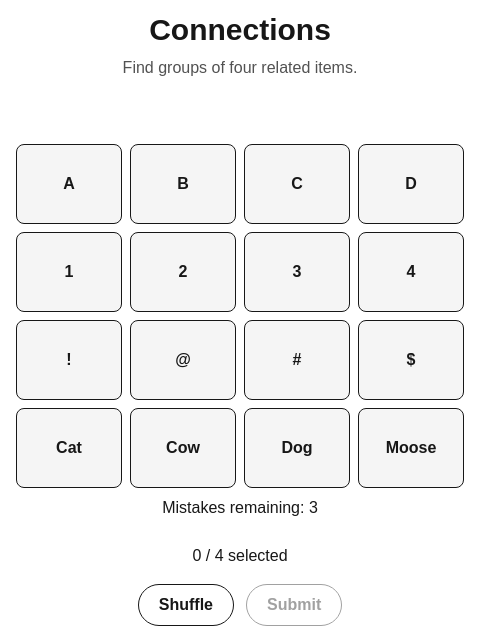
Test case: ConnectionsGameBoard › synchronizes duplicate responses without mutation or a reaction
Expected: the text "Mistakes remaining: 3" is shown, [162,499,318,516]
Step 1. Click the button "A" → click(69, 184), box [16,144,122,224]
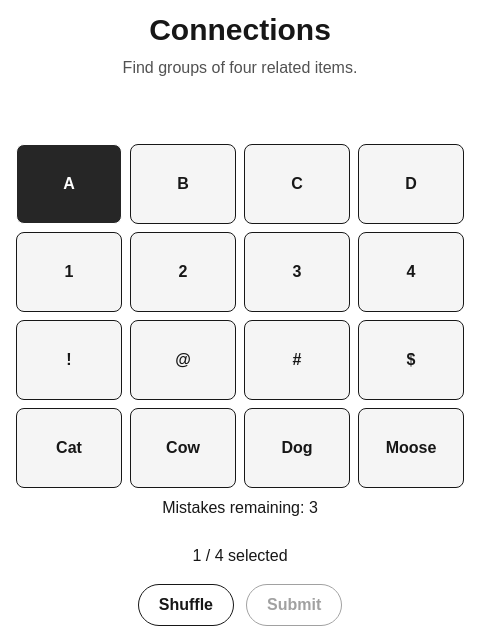
Step 2. Click the button "B" → click(183, 184), box [130,144,236,224]
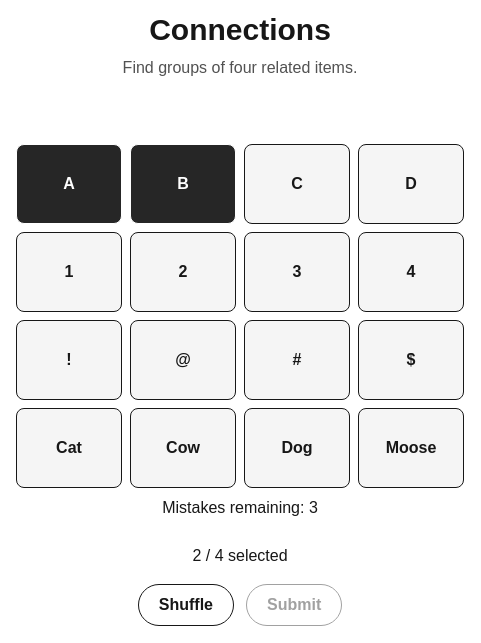
Step 3. Click the button "1" → click(69, 272), box [16,232,122,312]
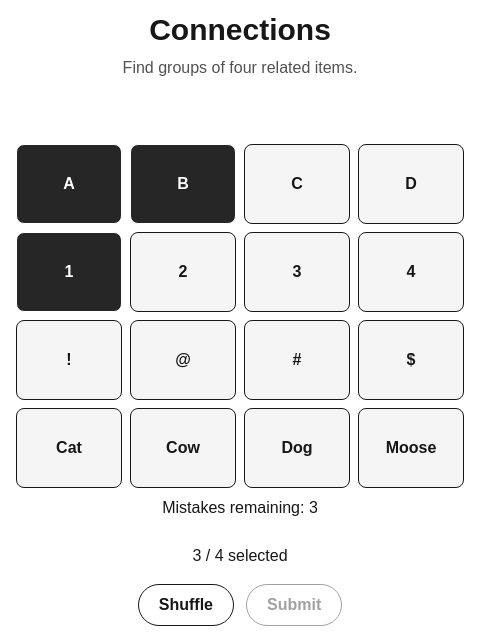
Step 4. Click the button "2" → click(183, 272), box [130,232,236,312]
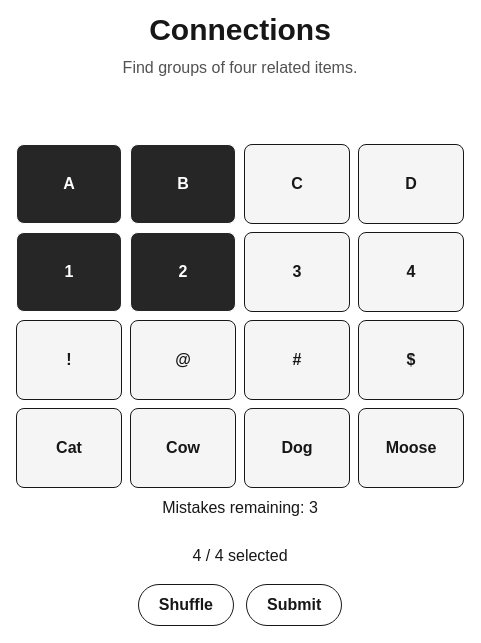
Step 5. Click the button "Submit" → click(294, 605), box [246,584,342,626]
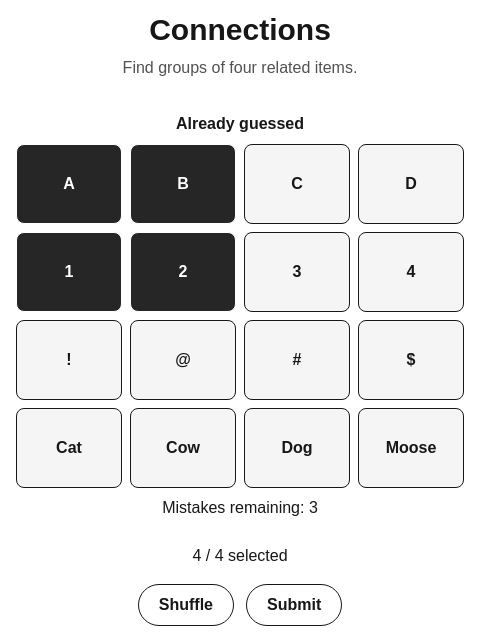
Expected: the text "Mistakes remaining: 3" is shown, [162,499,318,516]
Expected: the text "Already guessed" is shown, [176,115,304,132]
